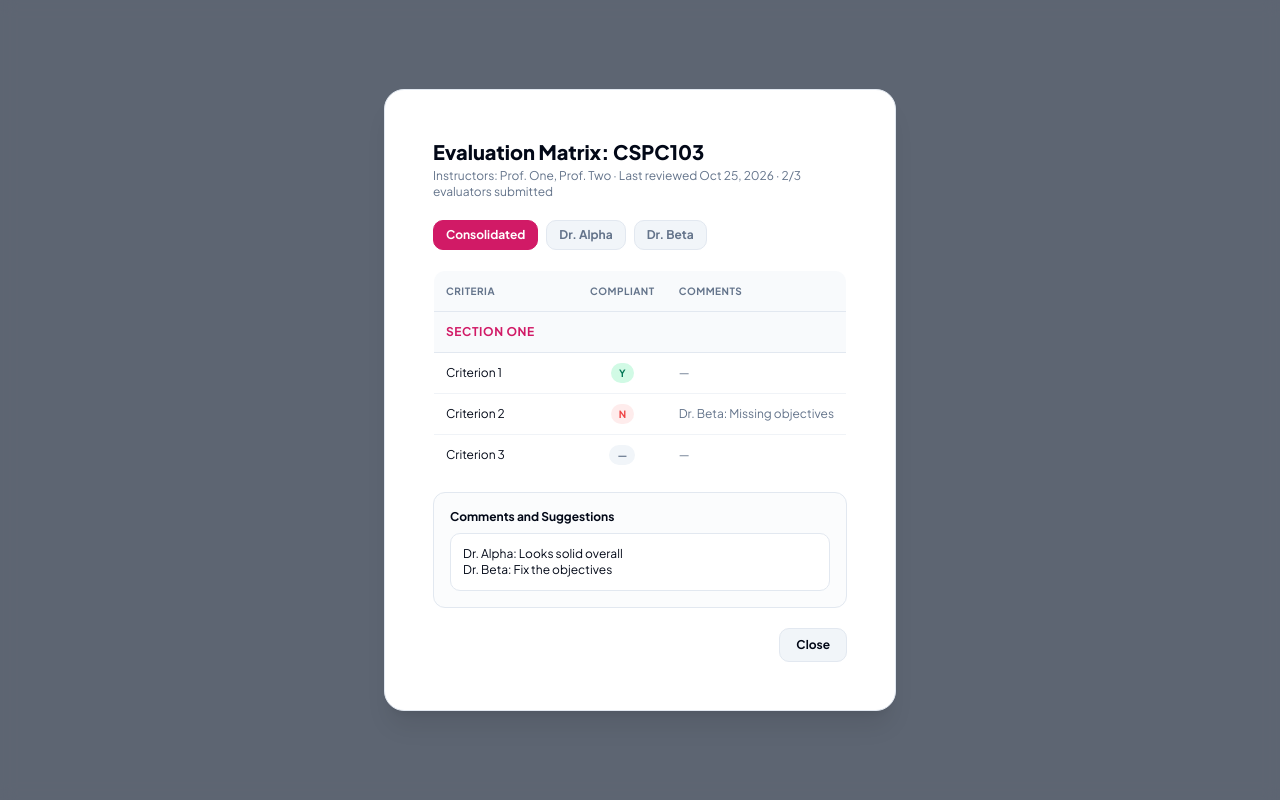
Test: ConsolidatedMatrixModal › individual view shows only that evaluator responses
Click the button "Dr. Alpha": x=586, y=235 [546,220,626,250]
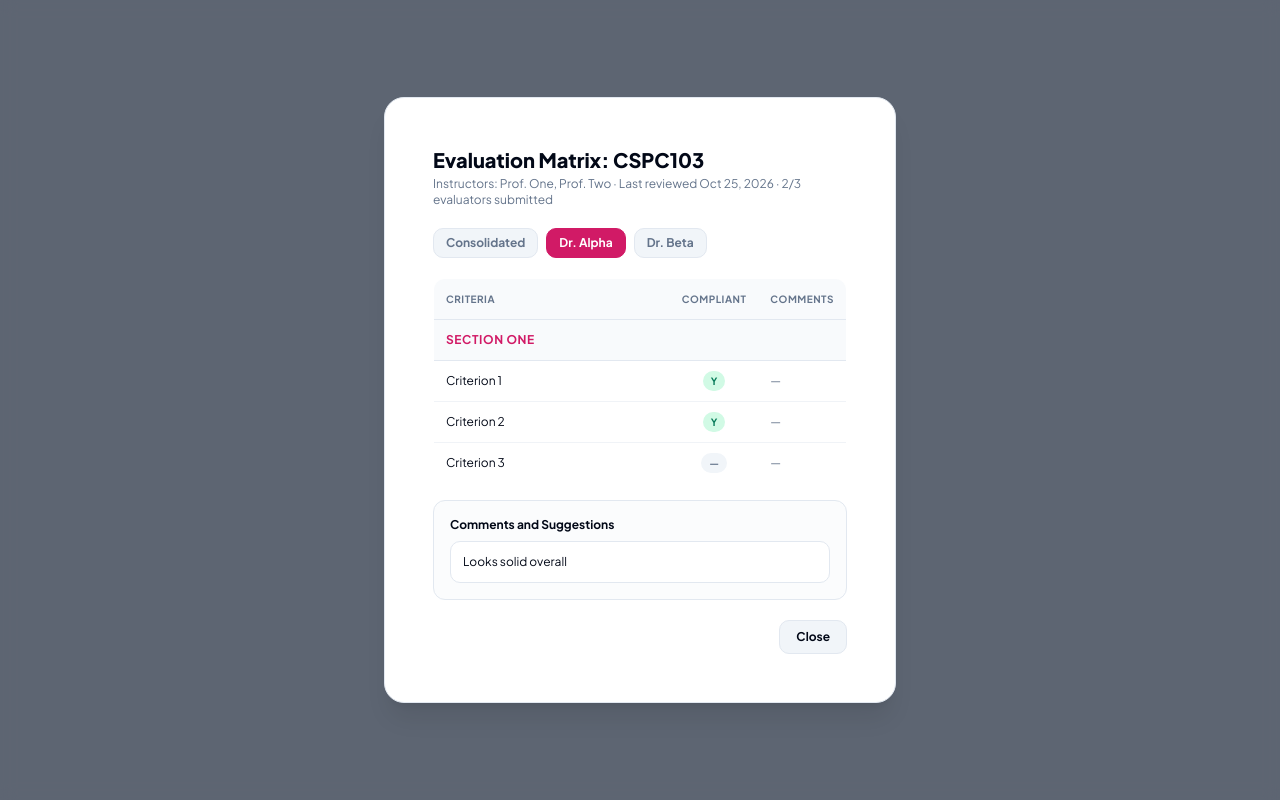
Expected: the text "Y" in the row of "Criterion 2" is shown, [711,416,717,428]
Result: the text "Missing objectives" is gone
Result: the text "Fix the objectives" is gone
